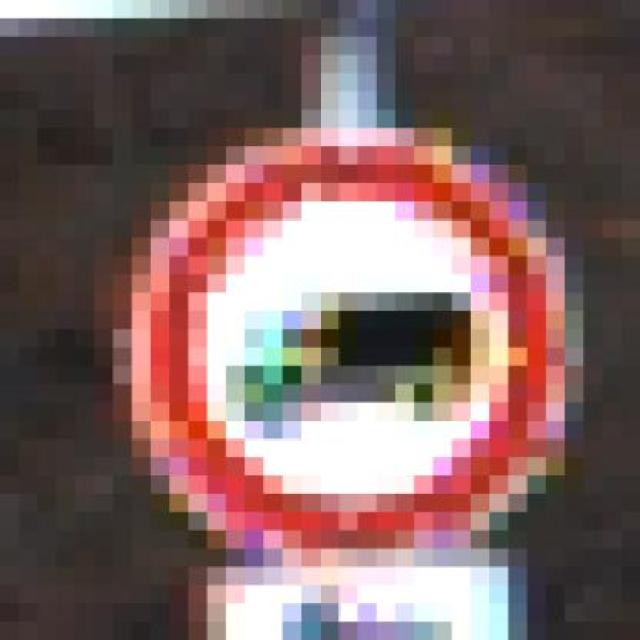Truck traffic is prohibited: (75, 110, 602, 548)
